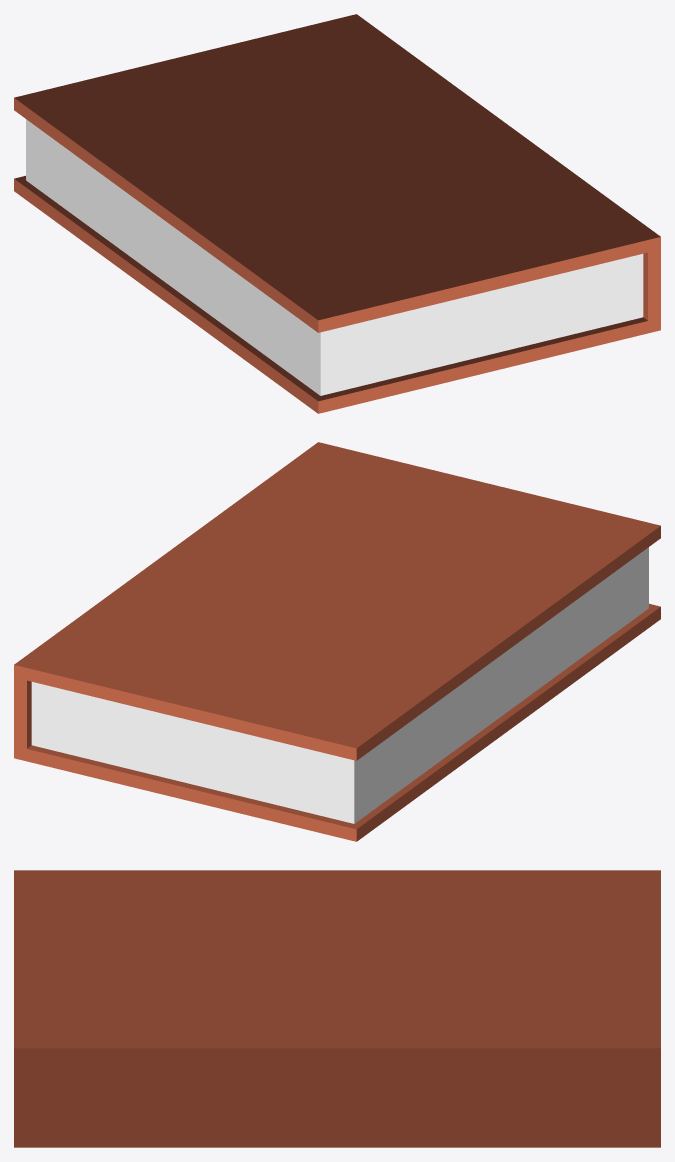
The model's file is Book 10.fbx.
The picture shows the model from 3 angles, top to bottom: view 1: azimuth 30°, elevation 25°; view 2: azimuth 150°, elevation 25°; view 3: azimuth 270°, elevation 25°; orthographic projection. The views are drawn at different scales.
Parts seen in each view (by area): view 1: Node 0; view 2: Node 0; view 3: Node 0.
Boxes of the visible parts, x1,y1,x2,y2 form: Node 0: (14, 14, 660, 413); Node 0: (14, 442, 660, 841); Node 0: (14, 870, 660, 1147).
Size of the model in its own units: 0.2444 by 0.0414 by 0.1589.
